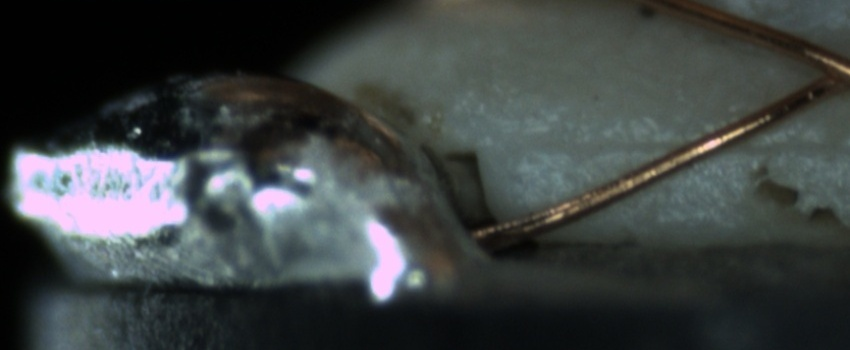CL: (793, 39, 850, 103)
DL: (511, 112, 844, 177)
